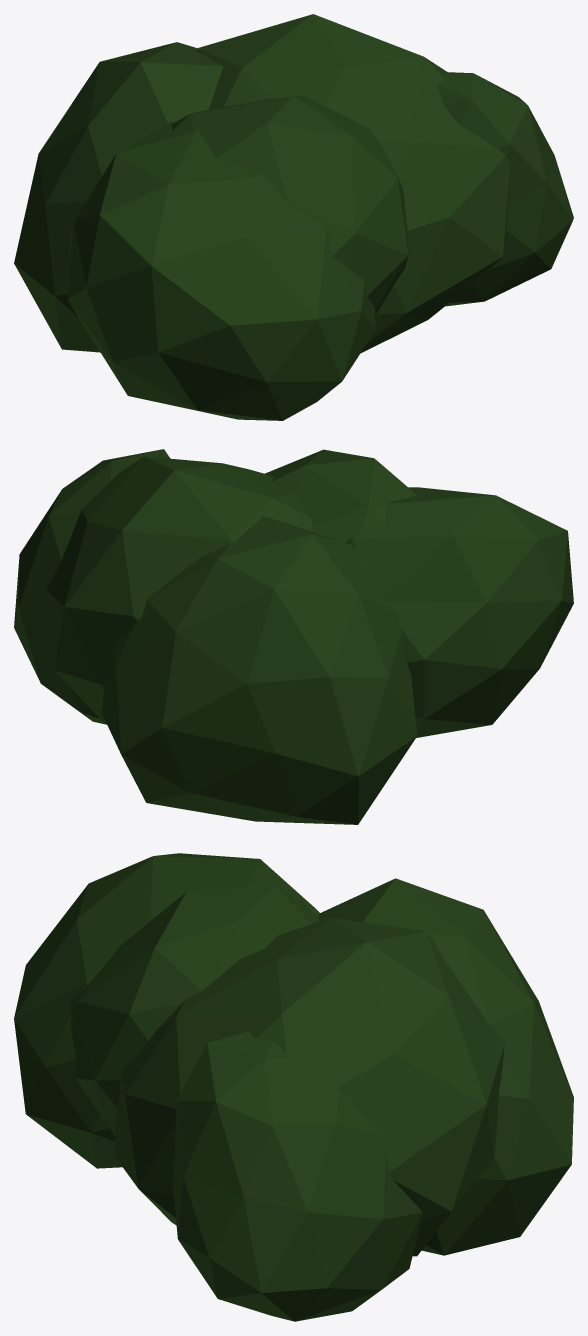
The model's file is arbusto_a.fbx.
3 renders of one model, top to bottom at view 1: azimuth 30°, elevation 25°; view 2: azimuth 150°, elevation 25°; view 3: azimuth 270°, elevation 25°, orthographic. The views are drawn at different scales.
Visible parts, largest first — view 1: arbusto_a; view 2: arbusto_a; view 3: arbusto_a.
Boxes of the visible parts, x1,y1,x2,y2 form: arbusto_a: (14, 14, 573, 420); arbusto_a: (14, 449, 573, 824); arbusto_a: (14, 853, 573, 1321).
Size of the model in its own units: 2.48 by 1.37 by 2.08.
